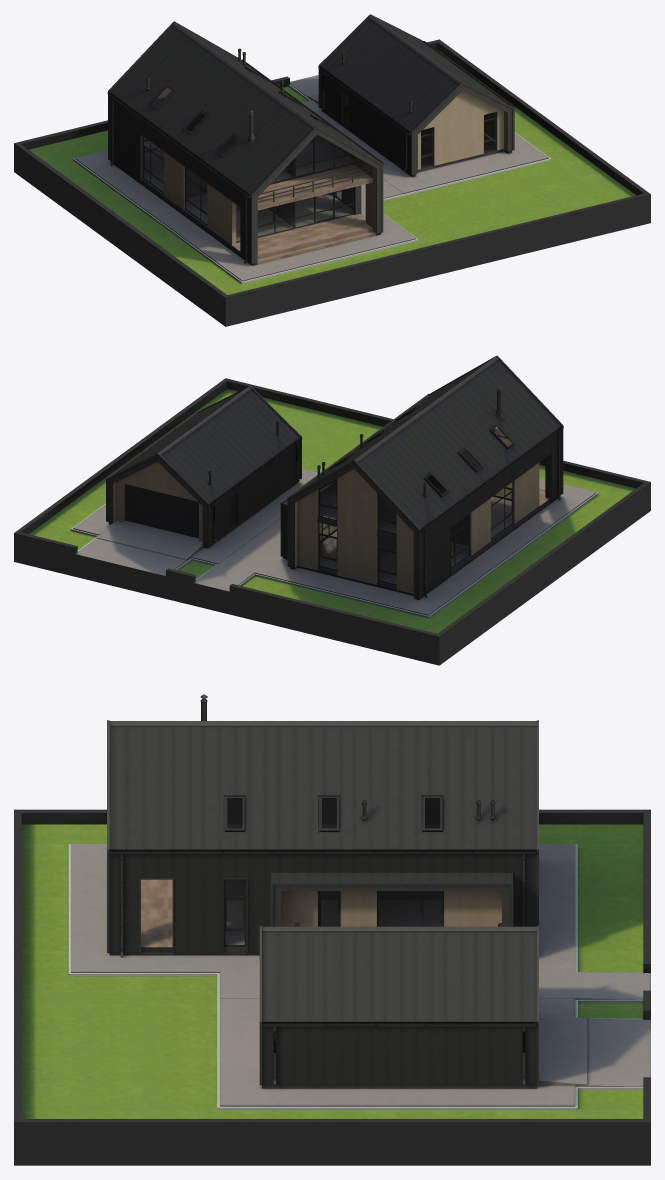
The picture shows the model from 3 angles, top to bottom: view 1: azimuth 30°, elevation 25°; view 2: azimuth 150°, elevation 25°; view 3: azimuth 270°, elevation 25°; orthographic projection. The views are drawn at different scales.
Visible parts, largest first — view 1: Object008; view 2: Object008; view 3: Object008.
Boxes of the visible parts, box(x1,y1,x2,y2) form: Object008: box(14, 14, 650, 326); Object008: box(14, 355, 650, 665); Object008: box(14, 694, 650, 1165).
Size of the model in its own units: 29.33 by 9.81 by 25.26.
2 materials, 1 textured.
